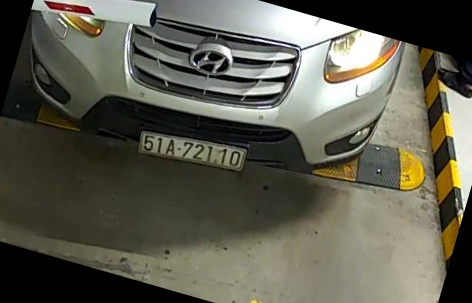plate: (135, 125, 252, 178)
